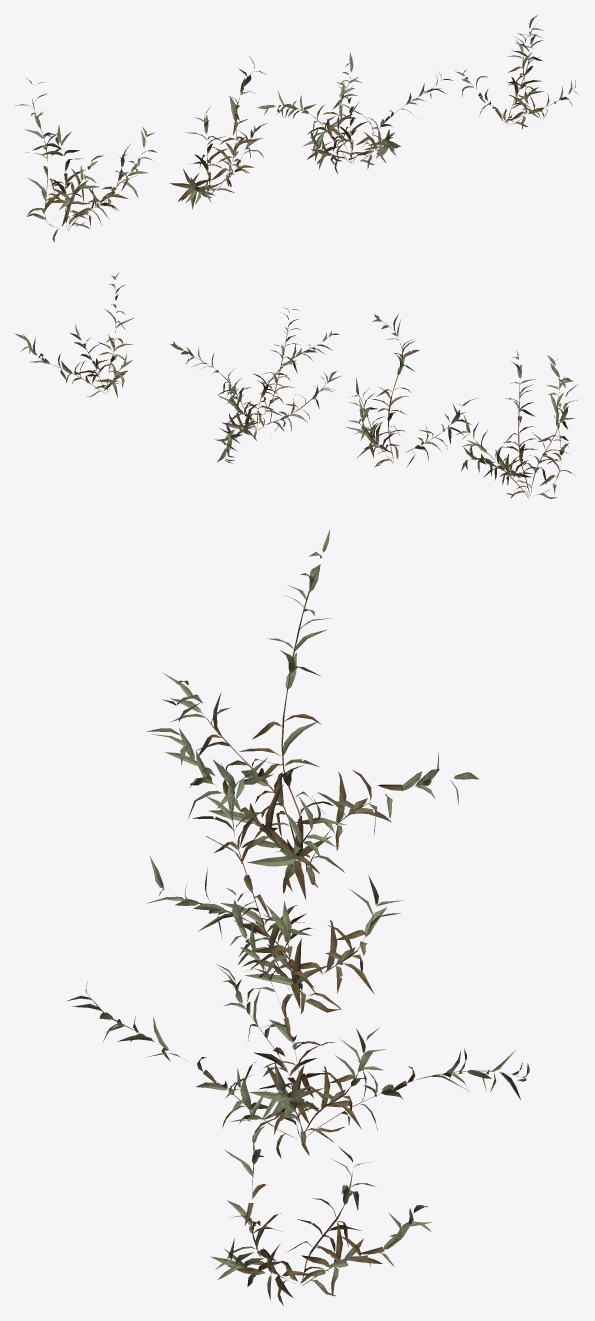
File: shrub_02.glb
3 views of the same model, one above another, from view 1: azimuth 30°, elevation 25°; view 2: azimuth 150°, elevation 25°; view 3: azimuth 270°, elevation 25° (orthographic). The views are drawn at different scales.
Visible parts, largest first — view 1: shrub_02_c, shrub_02_a, shrub_02_b, shrub_02_d; view 2: shrub_02_a, shrub_02_c, shrub_02_b, shrub_02_d; view 3: shrub_02_a, shrub_02_c, shrub_02_b, shrub_02_d.
Boxes of the visible parts, x1,y1,x2,y2 form: shrub_02_c: (257,52,453,173); shrub_02_a: (15,78,157,242); shrub_02_b: (169,56,267,209); shrub_02_d: (455,15,579,128); shrub_02_a: (456,350,578,498); shrub_02_c: (170,307,341,463); shrub_02_b: (345,314,477,467); shrub_02_d: (15,272,133,397); shrub_02_a: (146,529,478,900); shrub_02_c: (66,888,529,1158); shrub_02_b: (146,758,403,1017); shrub_02_d: (210,1068,432,1305).
Size of the model in its own units: 6.05 by 1.7 by 2.29.
1 material, 1 textured.
